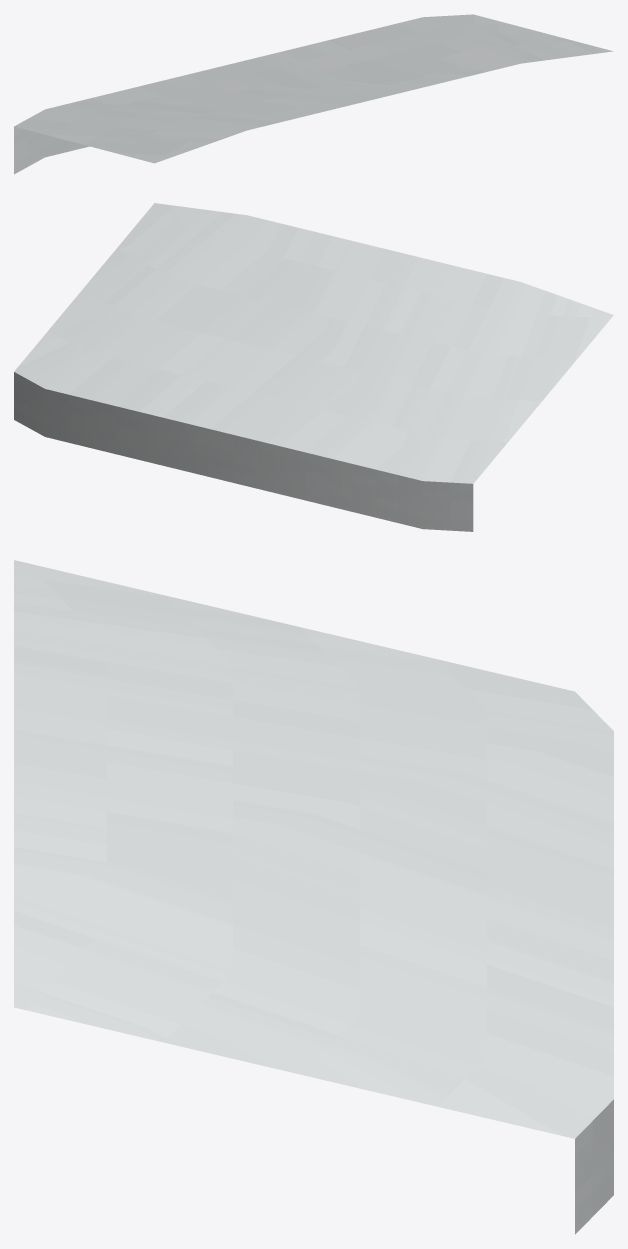
The model's file is bowl_medium_2_2_0.obj.
The picture shows the model from 3 angles, top to bottom: view 1: azimuth 30°, elevation 25°; view 2: azimuth 150°, elevation 25°; view 3: azimuth 270°, elevation 25°; orthographic projection. The views are drawn at different scales.
Visible parts, largest first — view 1: bowl_medium_2_2_0; view 2: bowl_medium_2_2_0; view 3: bowl_medium_2_2_0.
Part boxes in pixels (<box>): bowl_medium_2_2_0: <box>14,14,612,174</box>; bowl_medium_2_2_0: <box>14,203,613,531</box>; bowl_medium_2_2_0: <box>14,560,613,1234</box>.
Size of the model in its own units: 3 by 0.776 by 1.7.
